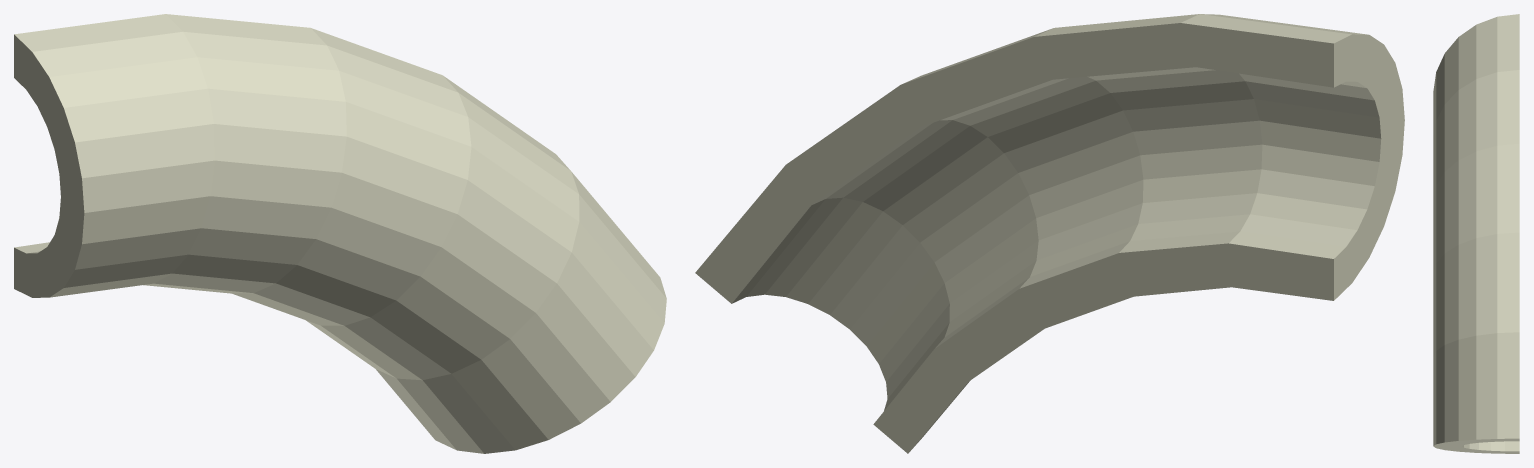
Rendered from section_131.obj.
The picture shows the model from 3 angles, left to right: view 1: azimuth 30°, elevation 25°; view 2: azimuth 150°, elevation 25°; view 3: azimuth 270°, elevation 25°; orthographic projection. The views are drawn at different scales.
Size of the model in its own units: 15.57 by 11.98 by 3.
